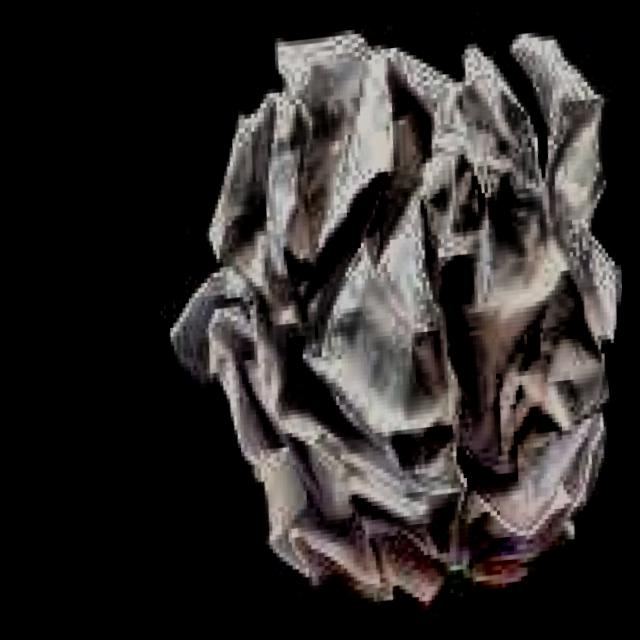Paper: (127, 0, 640, 637)
